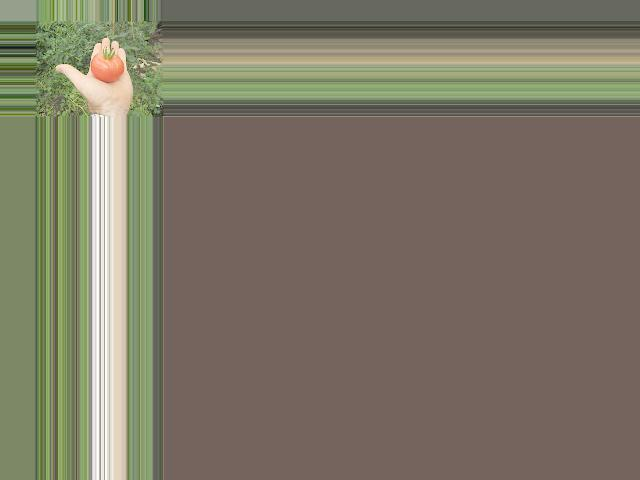tomato: (90, 52, 125, 82)
